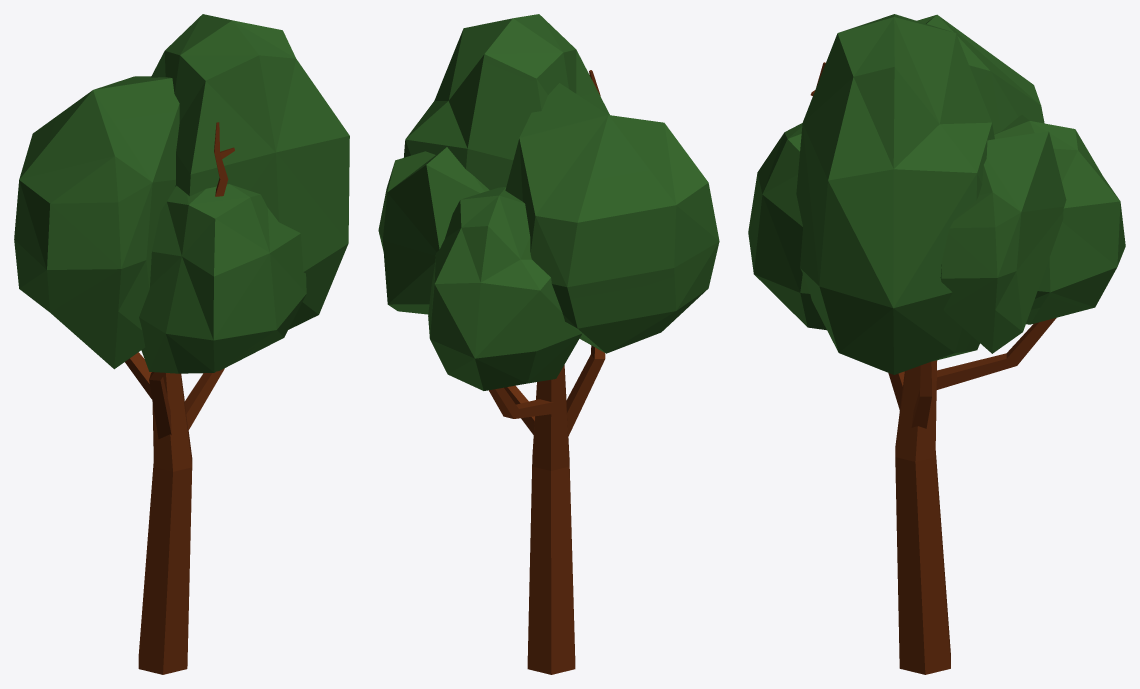
The model's file is tree_07.glb.
The picture shows the model from 3 angles, left to right: view 1: azimuth 30°, elevation 25°; view 2: azimuth 150°, elevation 25°; view 3: azimuth 270°, elevation 25°; orthographic projection. The views are drawn at different scales.
Visible parts, largest first — view 1: Tree_temp_climate_007; view 2: Tree_temp_climate_007; view 3: Tree_temp_climate_007.
Boxes of the visible parts, bbox=[...] form: Tree_temp_climate_007: bbox=[14, 14, 349, 674]; Tree_temp_climate_007: bbox=[378, 14, 719, 674]; Tree_temp_climate_007: bbox=[748, 14, 1125, 674].
Size of the model in its own units: 0.0589 by 0.1181 by 0.06.
1 material, 1 textured.
